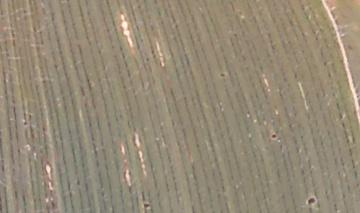tarspot: (21, 110, 28, 127), (306, 196, 316, 205), (142, 202, 150, 213), (292, 70, 299, 80), (148, 23, 155, 32), (52, 62, 59, 71), (270, 133, 278, 140), (144, 56, 151, 63), (218, 72, 226, 78), (16, 147, 21, 155), (149, 48, 154, 56), (41, 125, 46, 132), (153, 1, 159, 5)
